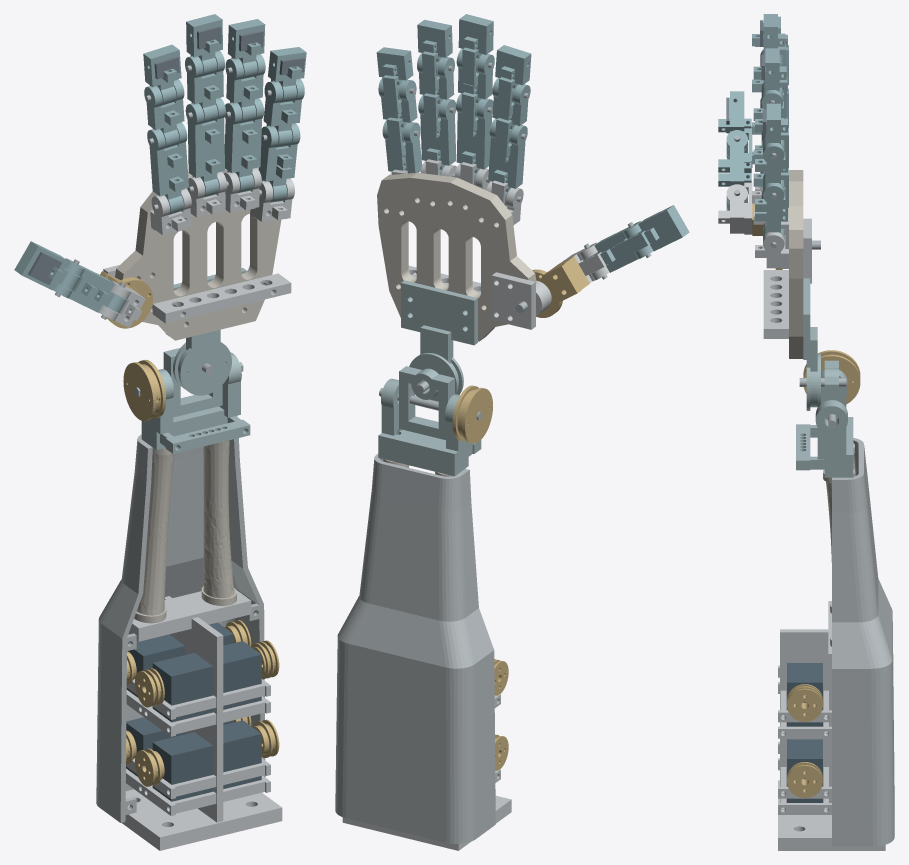
Rendered from anatomy_tendon_hand_A1.glb.
The picture shows the model from 3 angles, left to right: view 1: azimuth 30°, elevation 25°; view 2: azimuth 150°, elevation 25°; view 3: azimuth 270°, elevation 25°; orthographic projection. The views are drawn at different scales.
Parts seen in each view (by area): view 1: Dorsal forearm shell, Proximal actuator cassette, Metacarpal frame, Ulna inspired rail, Radius inspired rail, Radiocarpal fork, Palmar tendon anchor, Carpal hand carrier, middle phalanx 1, Motor M3, ring phalanx 1, Motor M7 (+30 smaller); view 2: Dorsal forearm shell, Metacarpal frame, Carpal hand carrier, Radiocarpal fork, Carpal gimbal, Thumb pivot housing, middle phalanx 1, ring phalanx 1, index phalanx 1, Wrist flexion sector, little phalanx 1, thumb phalanx 1 (+13 smaller); view 3: Dorsal forearm shell, Proximal actuator cassette, Metacarpal frame, Radiocarpal fork, Palmar tendon anchor, Carpal hand carrier, thumb phalanx 1, little phalanx 1, thumb root, Motor M4, little phalanx 2, Spool M8 (+16 smaller).
Part boxes in pixels (left/top/right/bottom): Dorsal forearm shell: left=96, top=434, right=265, bottom=822; Proximal actuator cassette: left=122, top=590, right=282, bottom=850; Metacarpal frame: left=115, top=167, right=281, bottom=340; Ulna inspired rail: left=201, top=440, right=236, bottom=605; Radius inspired rail: left=134, top=448, right=174, bottom=623; Radiocarpal fork: left=141, top=352, right=241, bottom=450; Palmar tendon anchor: left=152, top=273, right=291, bottom=323; Carpal hand carrier: left=165, top=268, right=246, bottom=395; middle phalanx 1: left=185, top=97, right=225, bottom=197; Motor M3: left=152, top=732, right=213, bottom=801; ring phalanx 1: left=224, top=98, right=264, bottom=192; Motor M7: left=152, top=653, right=213, bottom=722; Dorsal forearm shell: left=335, top=453, right=495, bottom=843; Metacarpal frame: left=377, top=172, right=536, bottom=341; Carpal hand carrier: left=401, top=280, right=477, bottom=401; Radiocarpal fork: left=378, top=378, right=472, bottom=476; Carpal gimbal: left=399, top=366, right=454, bottom=439; Thumb pivot housing: left=491, top=272, right=551, bottom=329; middle phalanx 1: left=456, top=92, right=493, bottom=185; ring phalanx 1: left=418, top=93, right=456, bottom=175; index phalanx 1: left=488, top=118, right=527, bottom=206; Wrist flexion sector: left=452, top=385, right=492, bottom=443; little phalanx 1: left=382, top=117, right=422, bottom=173; thumb phalanx 1: left=583, top=221, right=653, bottom=272; Dorsal forearm shell: left=832, top=438, right=894, bottom=846; Proximal actuator cassette: left=778, top=601, right=885, bottom=850; Metacarpal frame: left=788, top=170, right=803, bottom=358; Radiocarpal fork: left=815, top=370, right=853, bottom=477; Palmar tendon anchor: left=763, top=270, right=788, bottom=338; Carpal hand carrier: left=803, top=278, right=820, bottom=410; thumb phalanx 1: left=718, top=128, right=752, bottom=210; little phalanx 1: left=755, top=168, right=788, bottom=238; thumb root: left=718, top=182, right=752, bottom=234; Motor M4: left=787, top=739, right=822, bottom=802; little phalanx 2: left=755, top=128, right=788, bottom=189; Spool M8: left=787, top=684, right=822, bottom=721.
Size of the model in its own units: 0.1886 by 0.4881 by 0.0983.
